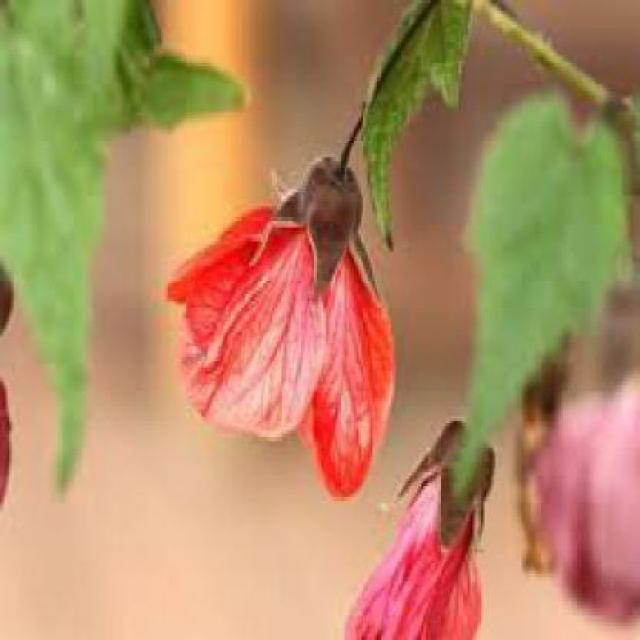Flower: (166, 157, 397, 508), (345, 426, 499, 637)
